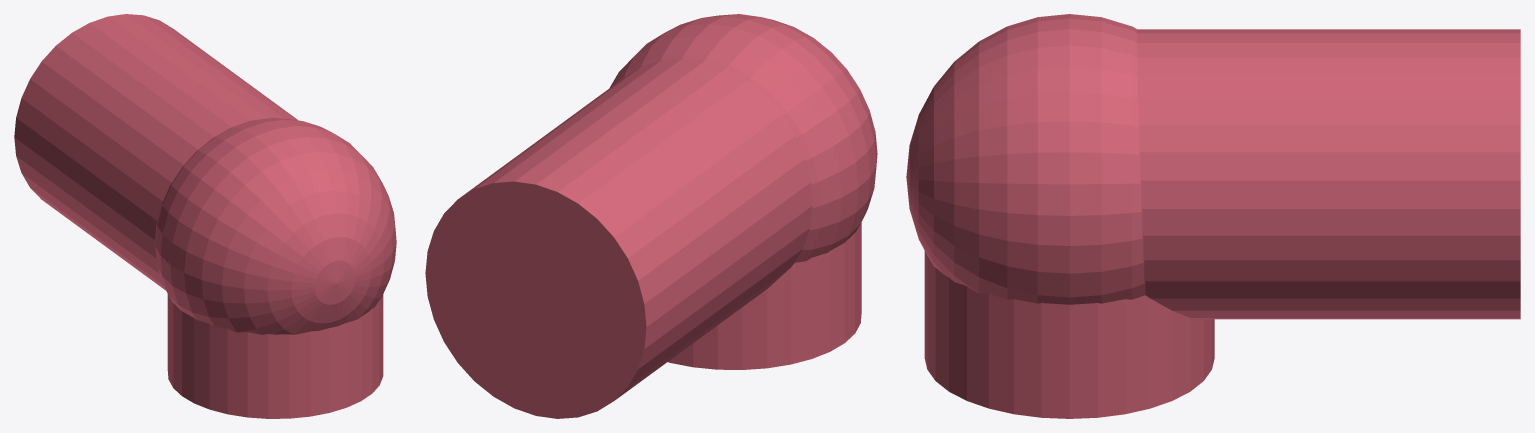
3 views of the same model, side by side, from view 1: azimuth 30°, elevation 25°; view 2: azimuth 150°, elevation 25°; view 3: azimuth 270°, elevation 25° (orthographic). The views are drawn at different scales.
Parts seen in each view (by area): view 1: link_3_visual; view 2: link_3_visual; view 3: link_3_visual.
Part boxes in pixels (left/top/right/bottom): link_3_visual: left=14, top=14, right=396, bottom=418; link_3_visual: left=425, top=14, right=877, bottom=418; link_3_visual: left=906, top=14, right=1520, bottom=418.
Bounding box in the file's own units: 0.9 × 1.69 × 0.9989.
